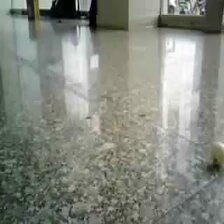w: (209, 141, 224, 165)
